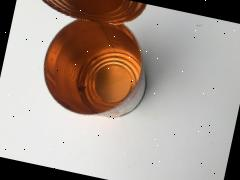metal: (0, 0, 215, 168)
